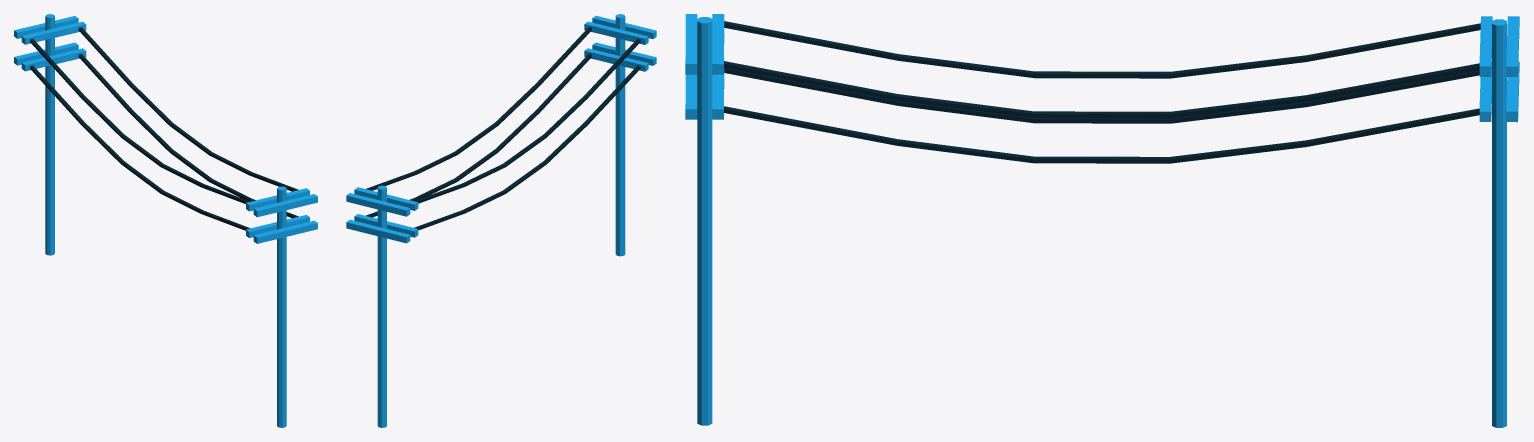
Rendered from Voltage_wires.FBX.
The picture shows the model from 3 angles, left to right: view 1: azimuth 30°, elevation 25°; view 2: azimuth 150°, elevation 25°; view 3: azimuth 270°, elevation 25°; orthographic projection. The views are drawn at different scales.
Visible parts, largest first — view 1: Cylinder003; view 2: Cylinder003; view 3: Cylinder003.
Part boxes in pixels (bbox=[...]): Cylinder003: bbox=[14, 14, 317, 427]; Cylinder003: bbox=[346, 14, 656, 427]; Cylinder003: bbox=[685, 14, 1519, 427].
Size of the model in its own units: 12.28 by 43.83 by 82.32.
